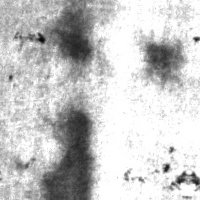patches: (42, 108, 97, 199), (46, 4, 98, 64), (139, 38, 184, 83)
